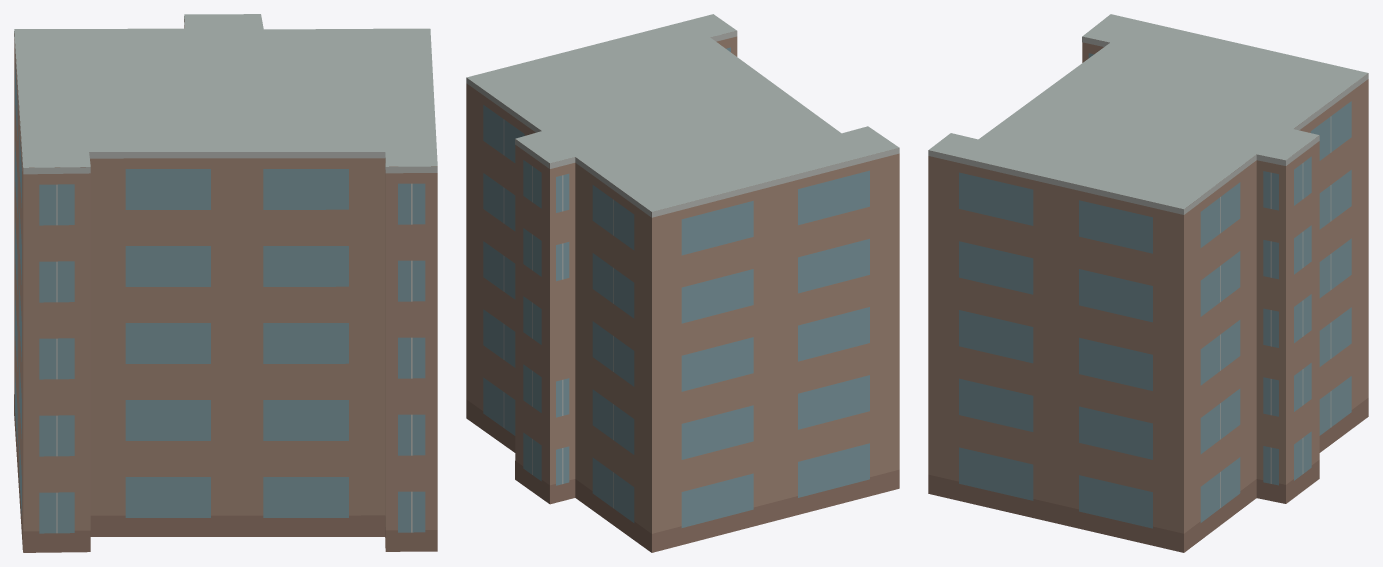
File: survey-upis-32705772.glb
3 views of the same model, side by side, from view 1: azimuth 30°, elevation 25°; view 2: azimuth 150°, elevation 25°; view 3: azimuth 270°, elevation 25° (orthographic). The views are drawn at different scales.
Parts seen in each view (by area): view 1: survey-upis-32705772.tmp; view 2: survey-upis-32705772.tmp; view 3: survey-upis-32705772.tmp.
Boxes of the visible parts, x1=… form: survey-upis-32705772.tmp: x1=14, y1=14, x2=437, y2=552; survey-upis-32705772.tmp: x1=466, y1=14, x2=899, y2=552; survey-upis-32705772.tmp: x1=928, y1=14, x2=1368, y2=552.
Bounding box in the file's own units: 17.68 × 14.5 × 16.84.
